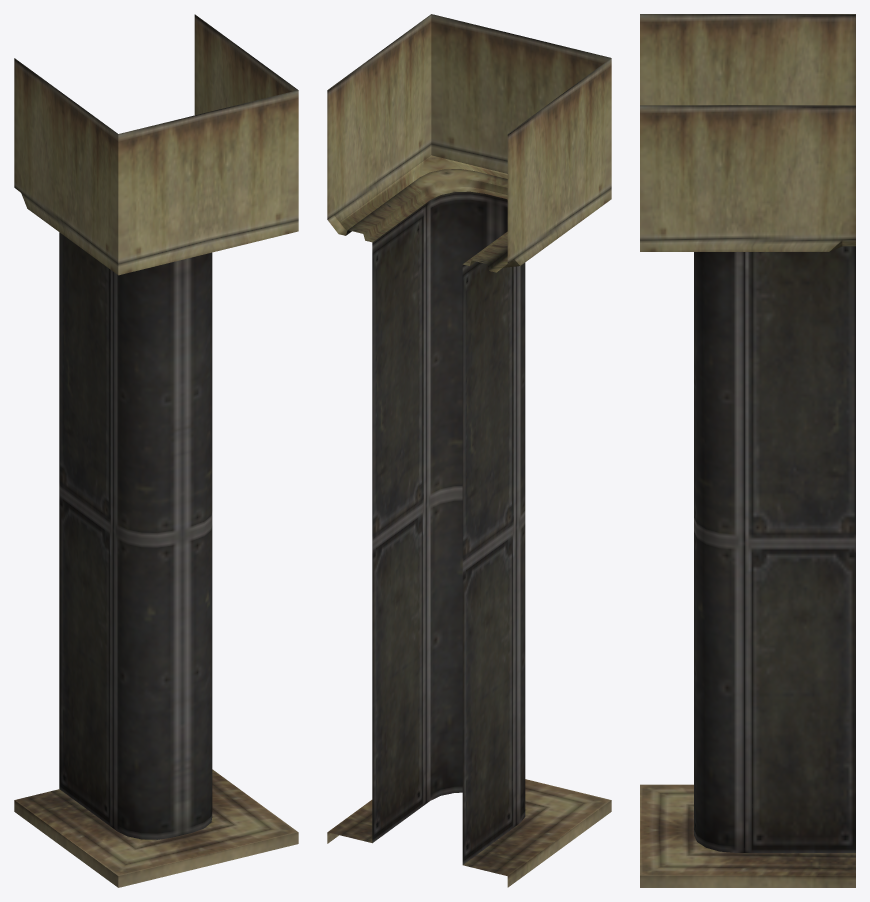
Rendered from pplant_ground_divider_small.dae.
The picture shows the model from 3 angles, left to right: view 1: azimuth 30°, elevation 25°; view 2: azimuth 150°, elevation 25°; view 3: azimuth 270°, elevation 25°; orthographic projection. The views are drawn at different scales.
Parts seen in each view (by area): view 1: pplant_ground_divider_small; view 2: pplant_ground_divider_small; view 3: pplant_ground_divider_small.
Boxes of the visible parts, bbox=[...] form: pplant_ground_divider_small: bbox=[14, 14, 298, 887]; pplant_ground_divider_small: bbox=[327, 14, 611, 887]; pplant_ground_divider_small: bbox=[640, 14, 855, 887].
Size of the model in its own units: 1 by 4 by 1.
